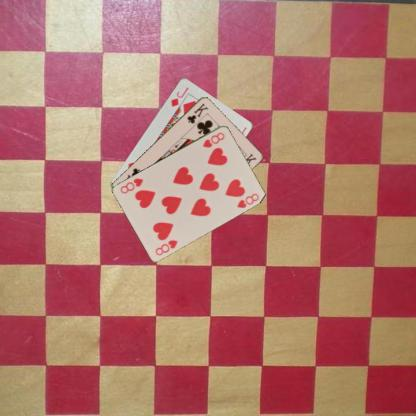8h: (153, 237, 179, 256), (200, 130, 226, 148)
Jd: (168, 84, 190, 108)
Kc: (184, 100, 210, 125)
